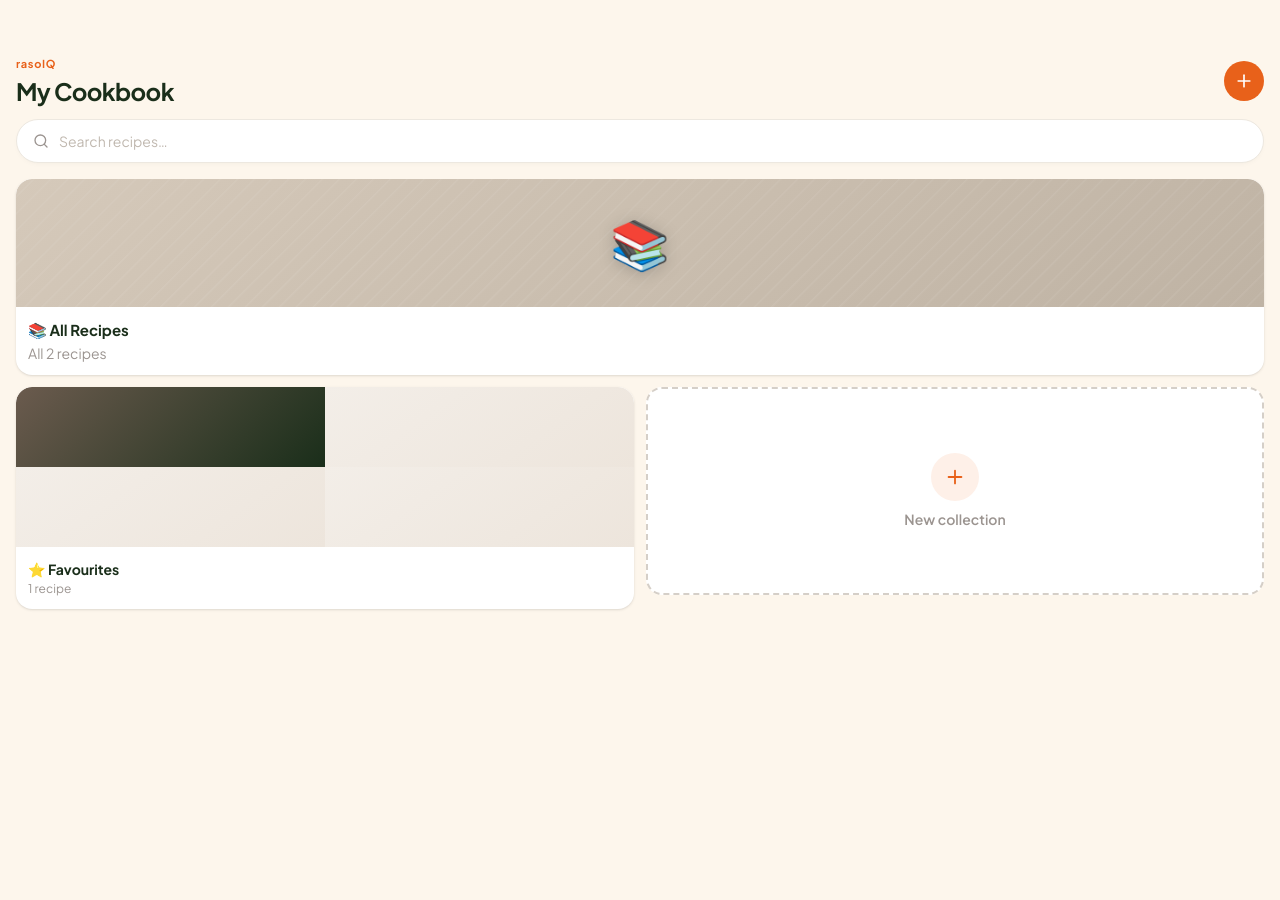
Test case: SavedRecipes (My Cookbook) › opening New collection card shows create sheet
The image size is (1280, 900).
Check: the text "New collection" is shown, box 904,509 -> 1006,529
Click the button "New collection" at point(955, 491), box 646,387 -> 1264,595
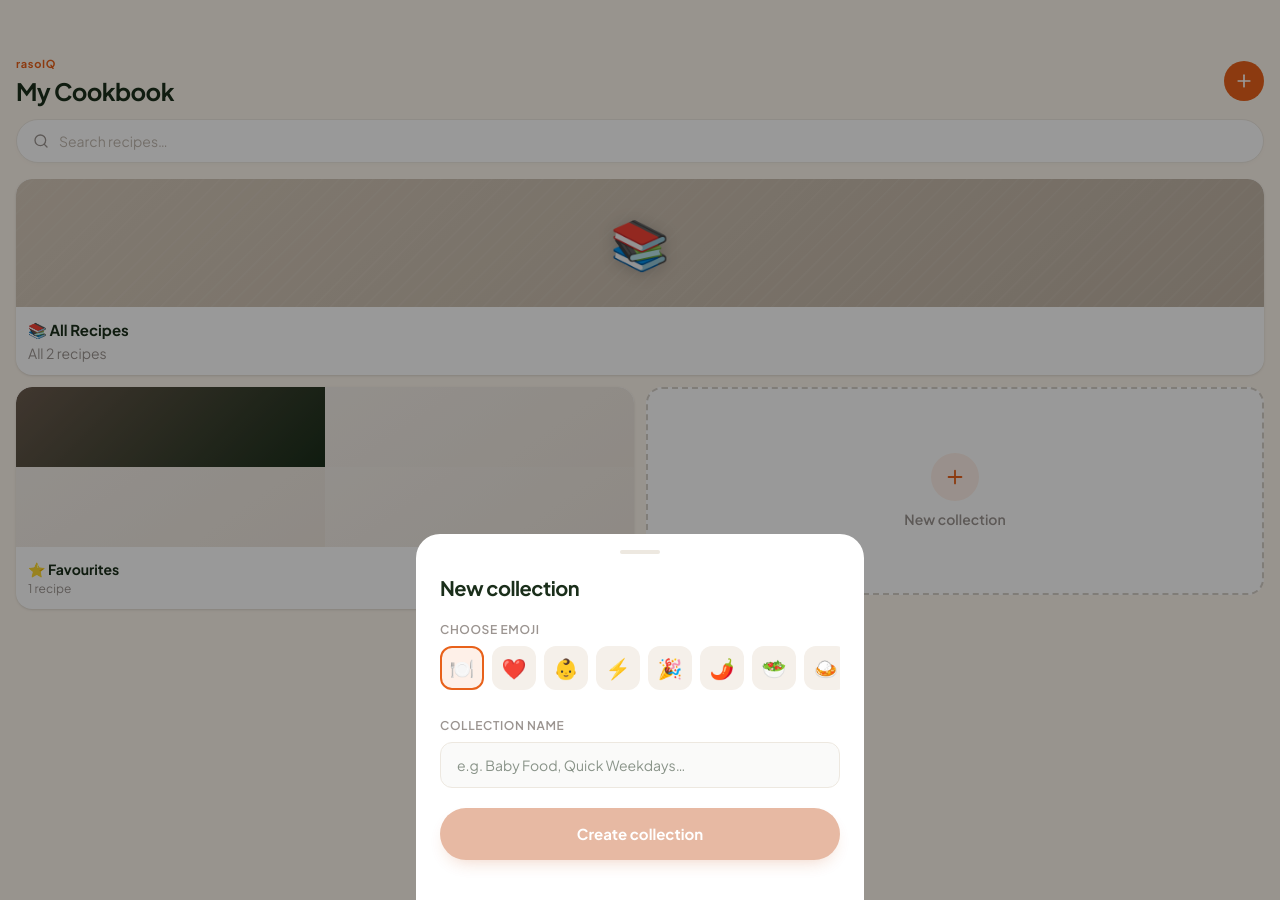
Check: the field with placeholder "e.g. Baby Food, Quick Weekdays…" is shown, box 440,742 -> 840,788
